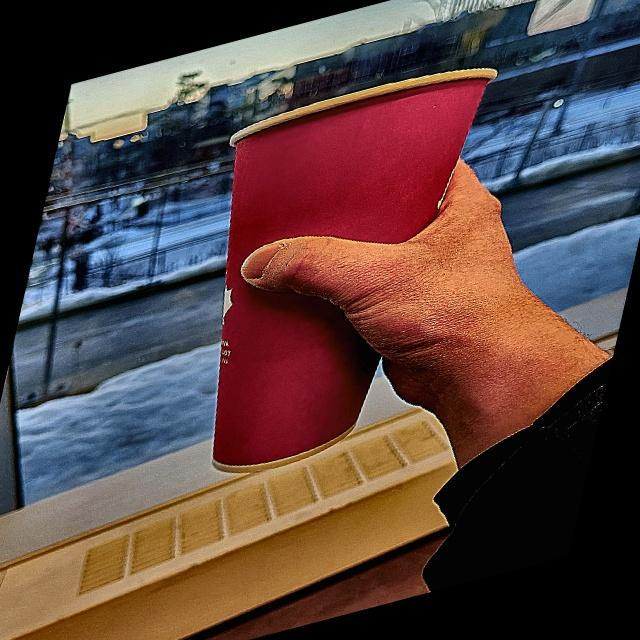timmies: (204, 58, 504, 484)
